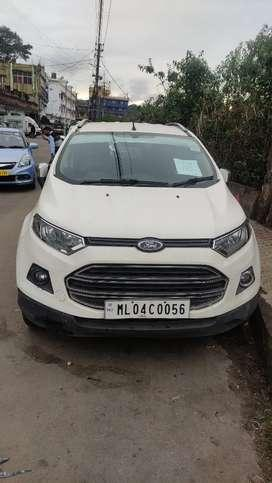ML04C0056: (103, 297, 187, 318)
